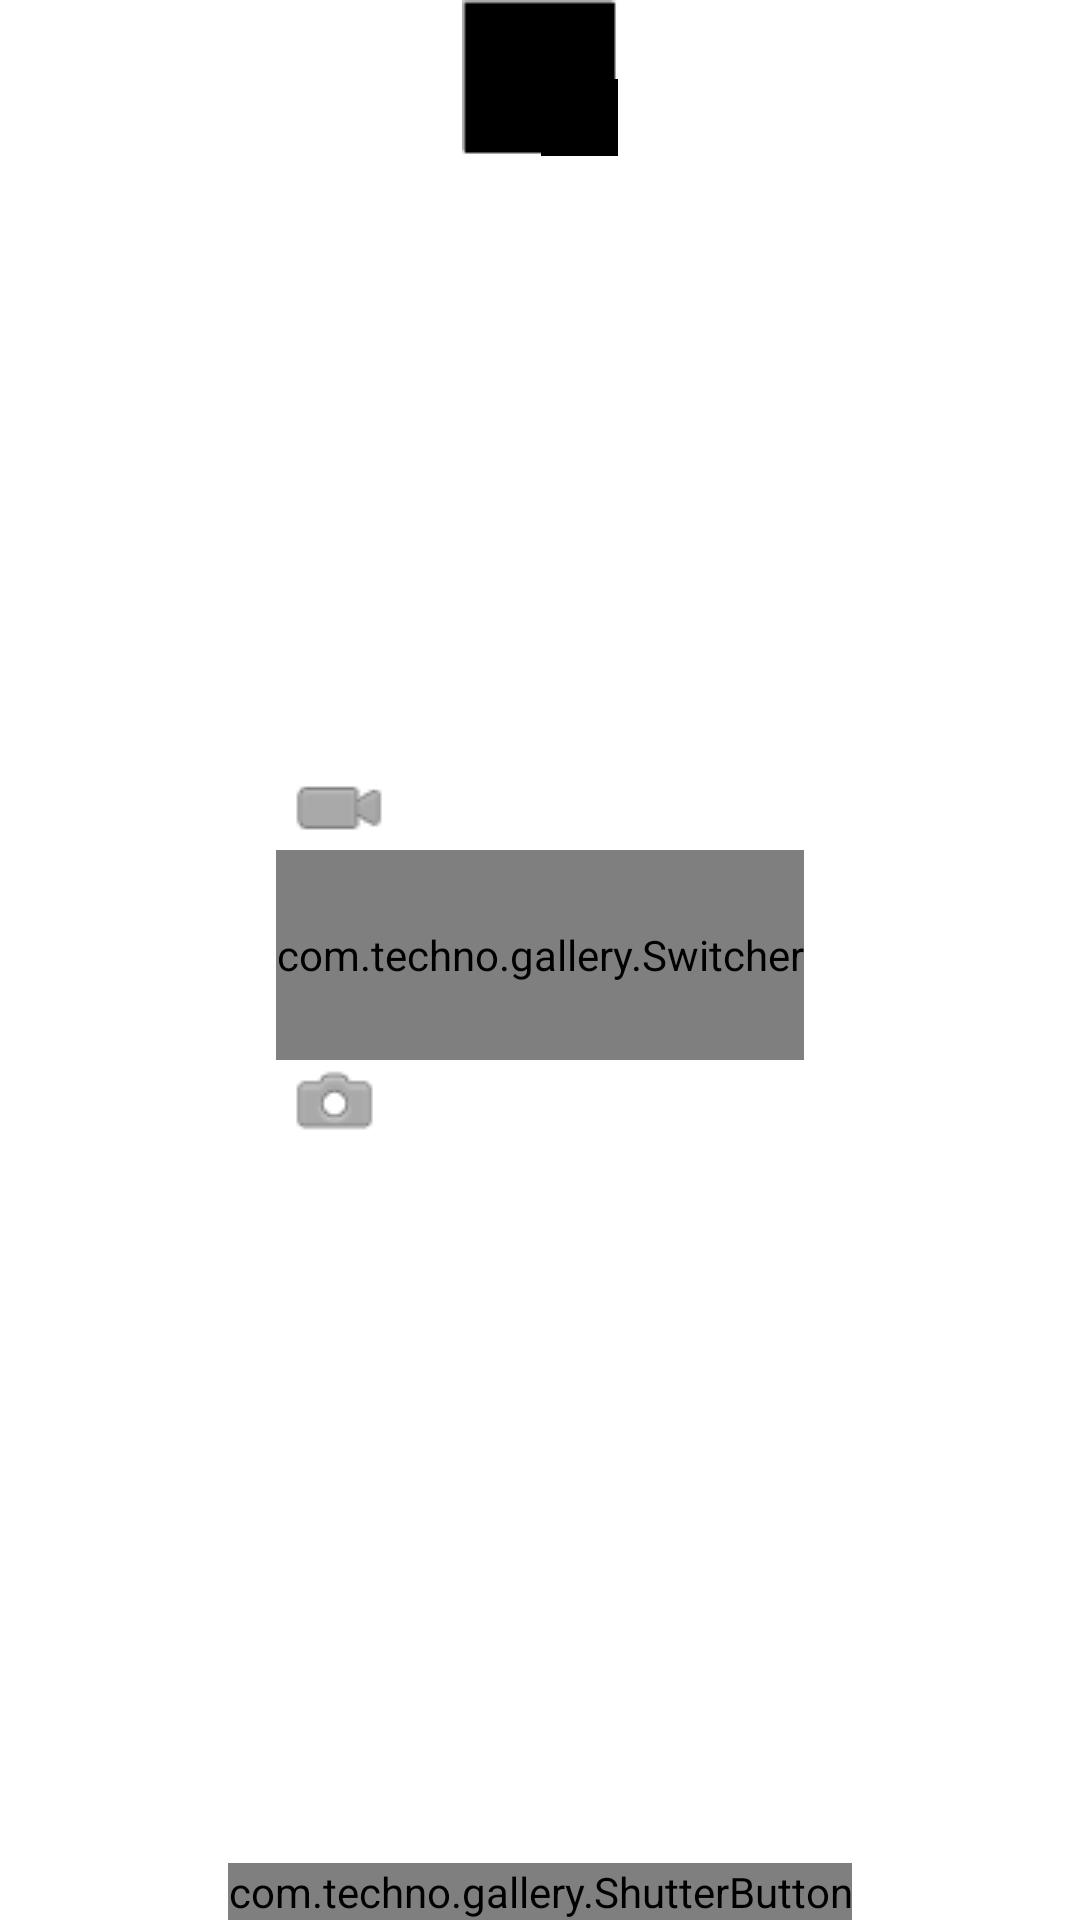

Named icons in this screenshot (1080px×1920px) and their bounding boxes, (x1, y1, x2, y2):
mode switch camera: (296, 1072, 373, 1129)
mode switch video: (296, 786, 382, 830)
